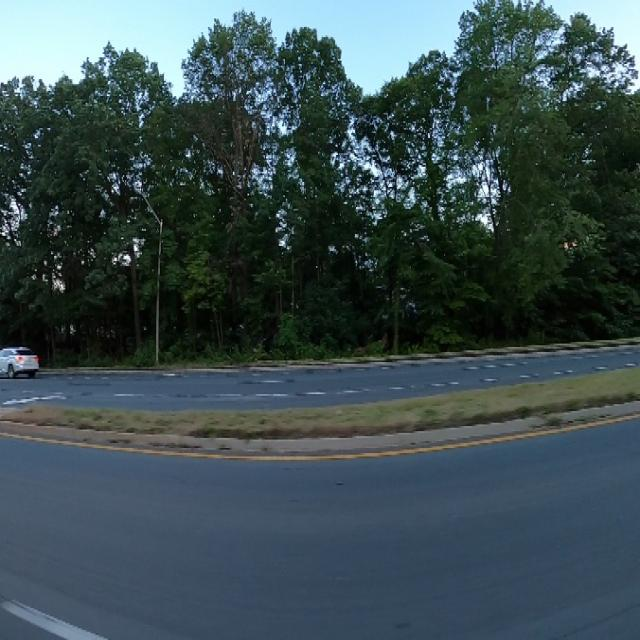cars: (0, 338, 39, 390)
